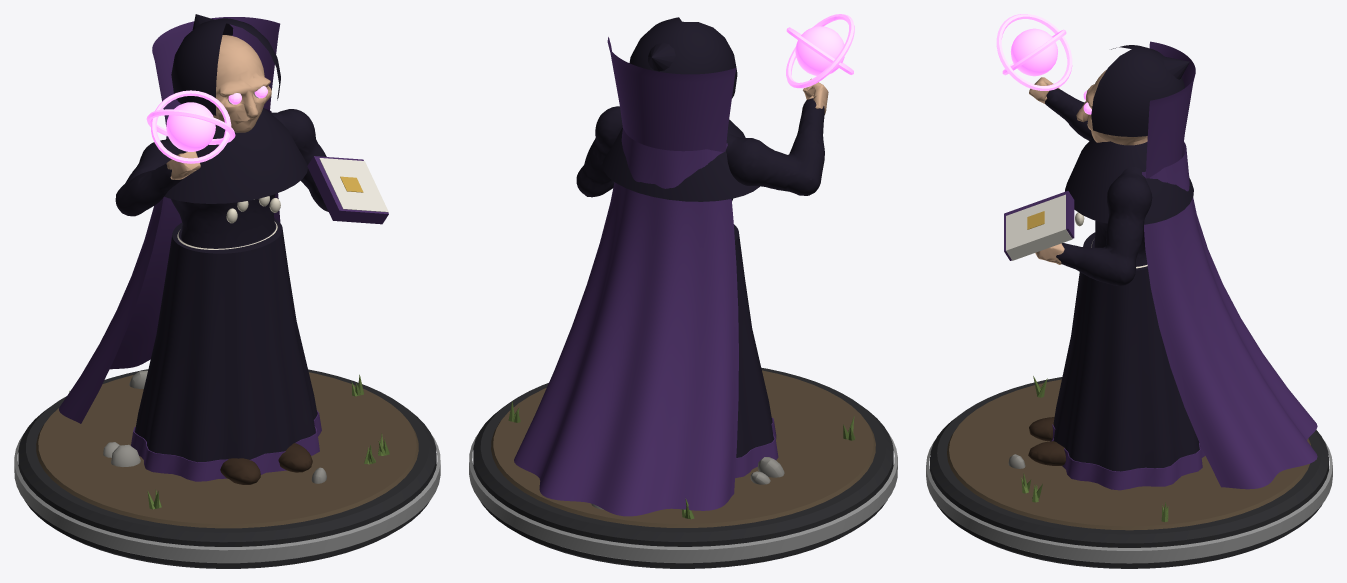
The model's file is warlock.glb.
The picture shows the model from 3 angles, left to right: view 1: azimuth 30°, elevation 25°; view 2: azimuth 150°, elevation 25°; view 3: azimuth 270°, elevation 25°; orthographic projection. The views are drawn at different scales.
Parts seen in each view (by area): view 1: warlock; view 2: warlock; view 3: warlock.
Boxes of the visible parts, bbox=[...] form: warlock: bbox=[14, 14, 440, 568]; warlock: bbox=[469, 14, 897, 568]; warlock: bbox=[926, 14, 1332, 568].
Size of the model in its own units: 0.856 by 1.02 by 0.856.
